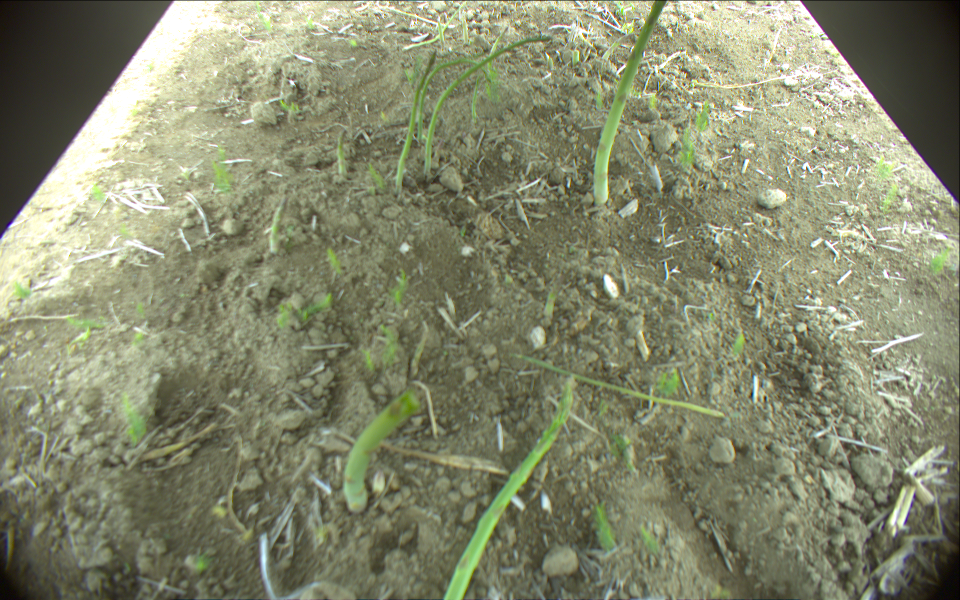aspa: (440, 379, 575, 600), (423, 32, 557, 174), (592, 1, 671, 205), (517, 355, 725, 417), (343, 387, 422, 514), (418, 59, 497, 147), (393, 51, 436, 189), (404, 7, 458, 50), (692, 72, 812, 89), (381, 5, 459, 29), (487, 27, 510, 79), (334, 127, 348, 178), (438, 19, 448, 45), (463, 17, 470, 45)
